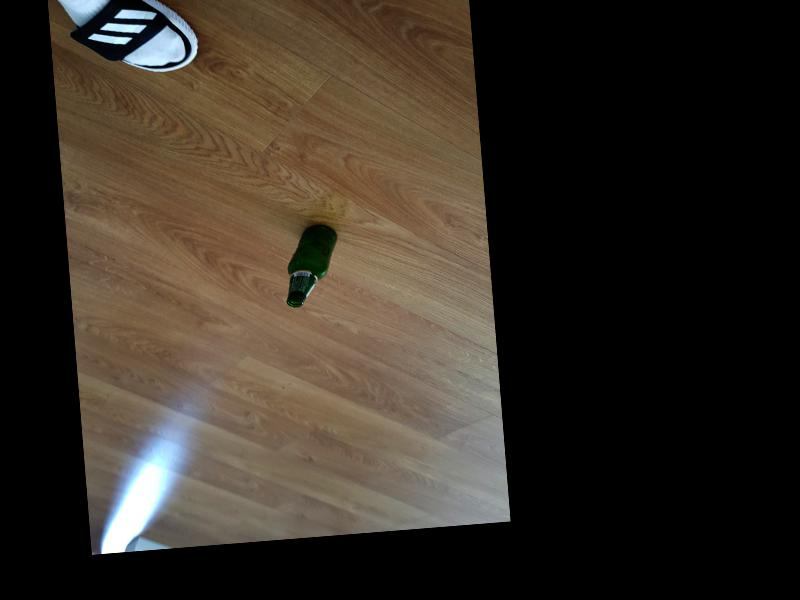Beer: (281, 224, 340, 306)
